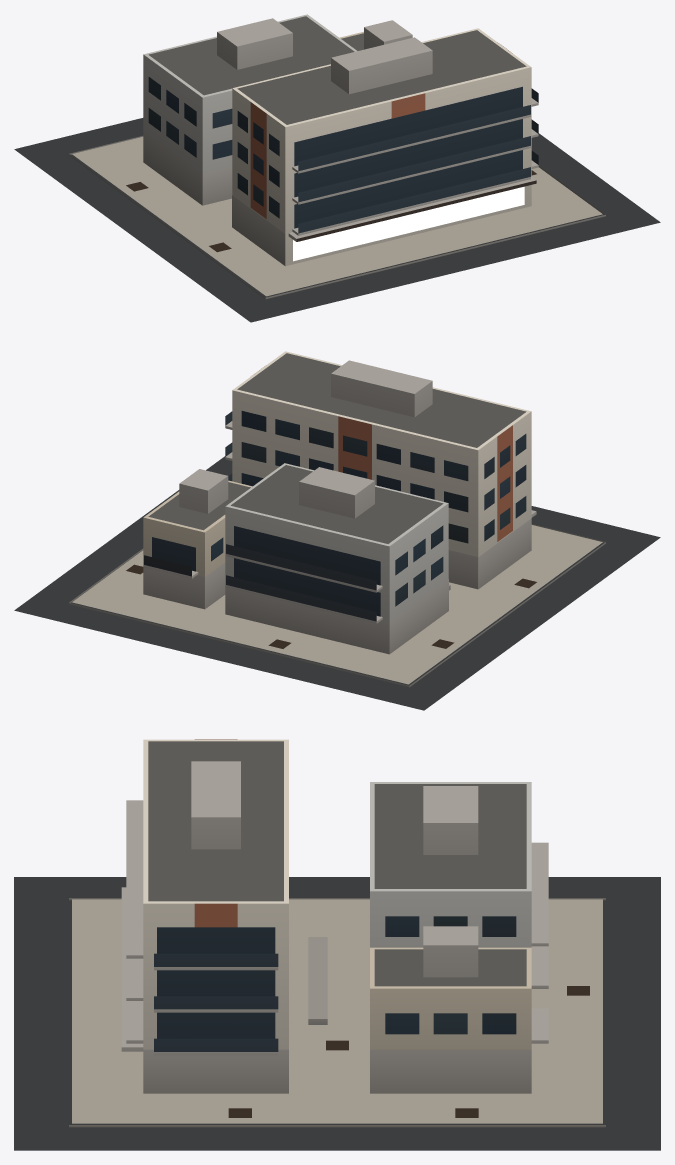
File: modulo_F_lod1.glb
3 renders of one model, top to bottom at view 1: azimuth 30°, elevation 25°; view 2: azimuth 150°, elevation 25°; view 3: azimuth 270°, elevation 25°, orthographic. The views are drawn at different scales.
Parts seen in each view (by area): view 1: modulo_F_lod1; view 2: modulo_F_lod1; view 3: modulo_F_lod1.
Part boxes in pixels (bbox=[...]): modulo_F_lod1: bbox=[14, 14, 660, 322]; modulo_F_lod1: bbox=[14, 351, 660, 710]; modulo_F_lod1: bbox=[14, 739, 660, 1150].
Bounding box in the file's own units: 40 × 15.31 × 40.
